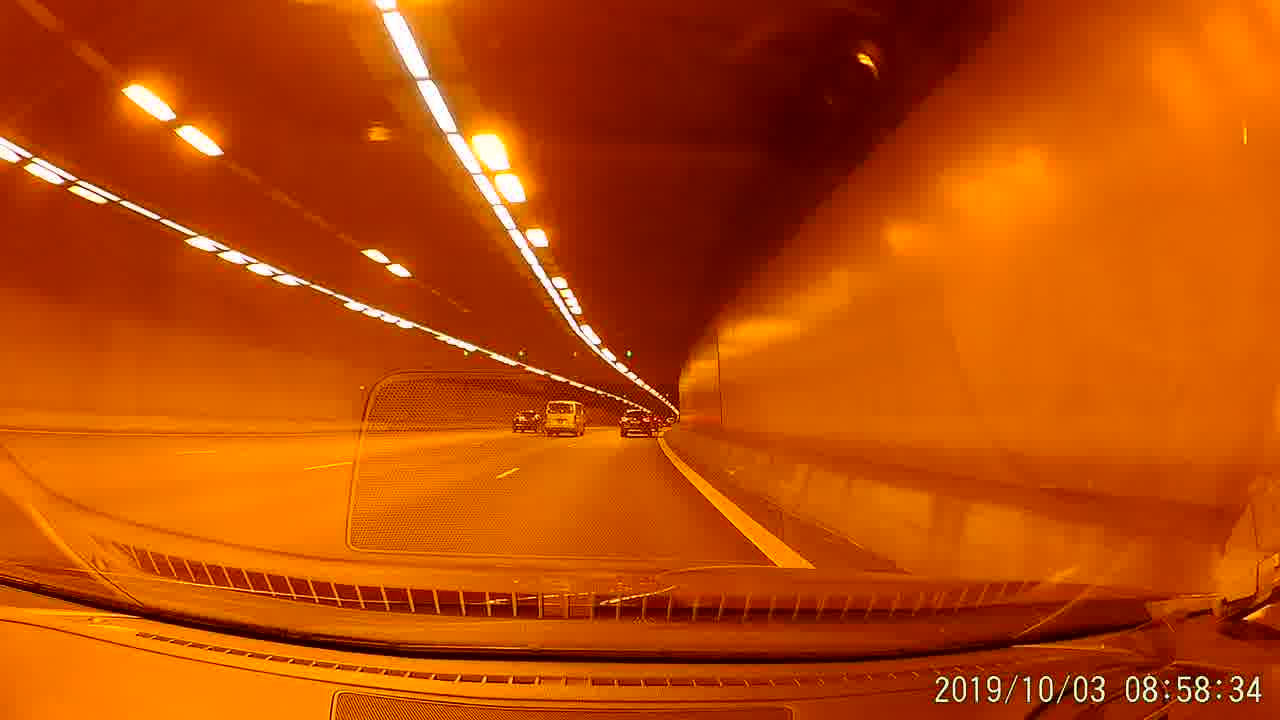car: (618, 406, 655, 439), (510, 408, 545, 436)
